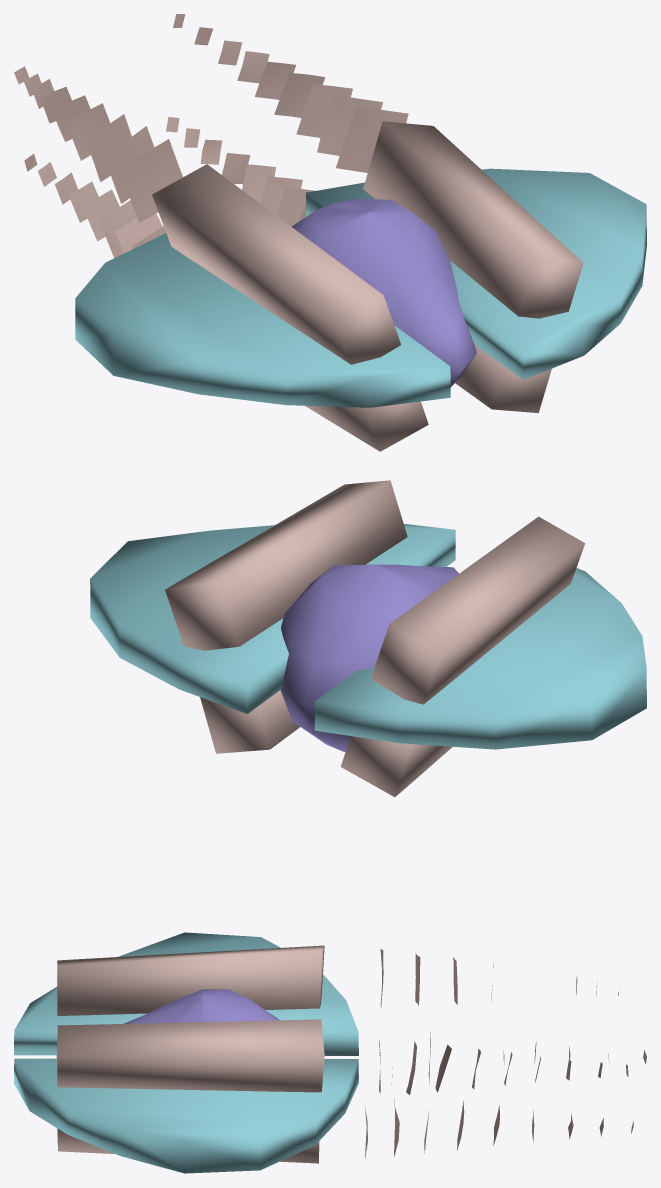
File: ship_5.gltf
3 renders of one model, top to bottom at view 1: azimuth 30°, elevation 25°; view 2: azimuth 150°, elevation 25°; view 3: azimuth 270°, elevation 25°, orthographic. The views are drawn at different scales.
Parts seen in each view (by area): view 1: gtlf; view 2: gtlf; view 3: gtlf.
Boxes of the visible parts, <box> form: gtlf: <box>14,14,646,451</box>; gtlf: <box>90,480,646,797</box>; gtlf: <box>14,932,646,1173</box>.
Bounding box in the file's own units: 1.76 × 0.6198 × 2.27.
